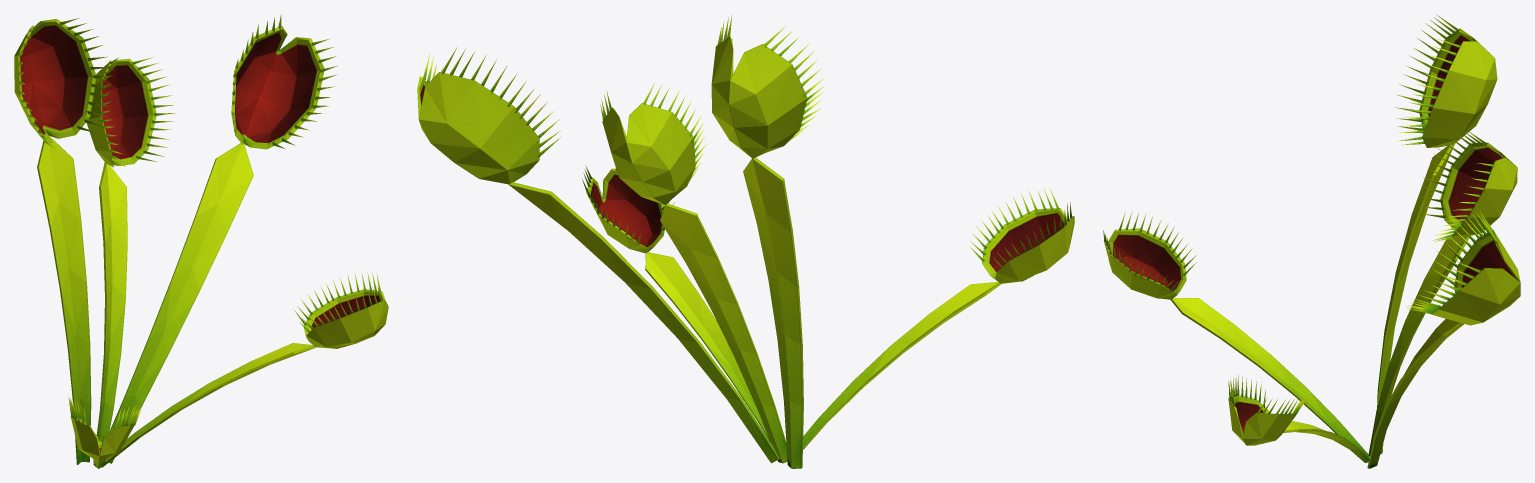
File: Venus_Flytrap_04.FBX
3 renders of one model, left to right at view 1: azimuth 30°, elevation 25°; view 2: azimuth 150°, elevation 25°; view 3: azimuth 270°, elevation 25°, orthographic. The views are drawn at different scales.
Visible parts, largest first — view 1: Venus_Flytrap_03, Venus_Flytrap_01, Face_08, Face_04, Venus_Flytrap_02, Face_05, Face_03, Face_02, Venus_Flytrap_04, FACE_01, Face_07, Face_06 (+2 smaller); view 2: Face_03, Venus_Flytrap_01, Face_07, Venus_Flytrap_02, Venus_Flytrap_03, Face_06, Venus_Flytrap_04, Venus_Flytrap_05, Face_09, Face_02, Face_10, Face_08 (+2 smaller); view 3: Face_08, Venus_Flytrap_05, Face_04, Face_06, Face_10, Venus_Flytrap_01, Venus_Flytrap_02, Face_05, Face_03, Face_07, Venus_Flytrap_03, FACE_01 (+3 smaller).
Boxes of the visible parts, bbox=[...] form: Venus_Flytrap_03: bbox=[109, 142, 253, 463]; Venus_Flytrap_01: bbox=[37, 136, 91, 464]; Face_08: bbox=[28, 18, 113, 138]; Face_04: bbox=[243, 37, 337, 149]; Venus_Flytrap_02: bbox=[93, 162, 127, 462]; Face_05: bbox=[101, 57, 175, 166]; Face_03: bbox=[231, 14, 287, 144]; Face_02: bbox=[299, 286, 388, 348]; Venus_Flytrap_04: bbox=[102, 343, 316, 467]; FACE_01: bbox=[294, 272, 385, 338]; Face_07: bbox=[14, 25, 55, 149]; Face_06: bbox=[86, 57, 125, 167]; Face_03: bbox=[418, 46, 560, 184]; Venus_Flytrap_01: bbox=[743, 157, 803, 468]; Face_07: bbox=[728, 26, 824, 158]; Venus_Flytrap_02: bbox=[660, 203, 787, 463]; Venus_Flytrap_03: bbox=[508, 182, 779, 463]; Face_06: bbox=[626, 83, 706, 204]; Venus_Flytrap_04: bbox=[645, 252, 770, 441]; Venus_Flytrap_05: bbox=[803, 282, 1001, 449]; Face_09: bbox=[970, 188, 1068, 281]; Face_02: bbox=[602, 168, 674, 251]; Face_10: bbox=[993, 202, 1074, 283]; Face_08: bbox=[711, 15, 751, 157]; Face_08: bbox=[1397, 39, 1497, 147]; Venus_Flytrap_05: bbox=[1170, 298, 1369, 456]; Face_04: bbox=[1407, 262, 1520, 325]; Face_06: bbox=[1420, 131, 1515, 230]; Face_10: bbox=[1108, 211, 1196, 294]; Venus_Flytrap_01: bbox=[1377, 144, 1454, 454]; Venus_Flytrap_02: bbox=[1368, 236, 1469, 455]; Face_05: bbox=[1433, 157, 1517, 241]; Face_03: bbox=[1433, 209, 1520, 293]; Face_07: bbox=[1395, 15, 1489, 130]; Venus_Flytrap_03: bbox=[1367, 319, 1463, 468]; FACE_01: bbox=[1242, 396, 1307, 445].
Size of the model in its own units: 16.61 by 16.31 by 14.28.
